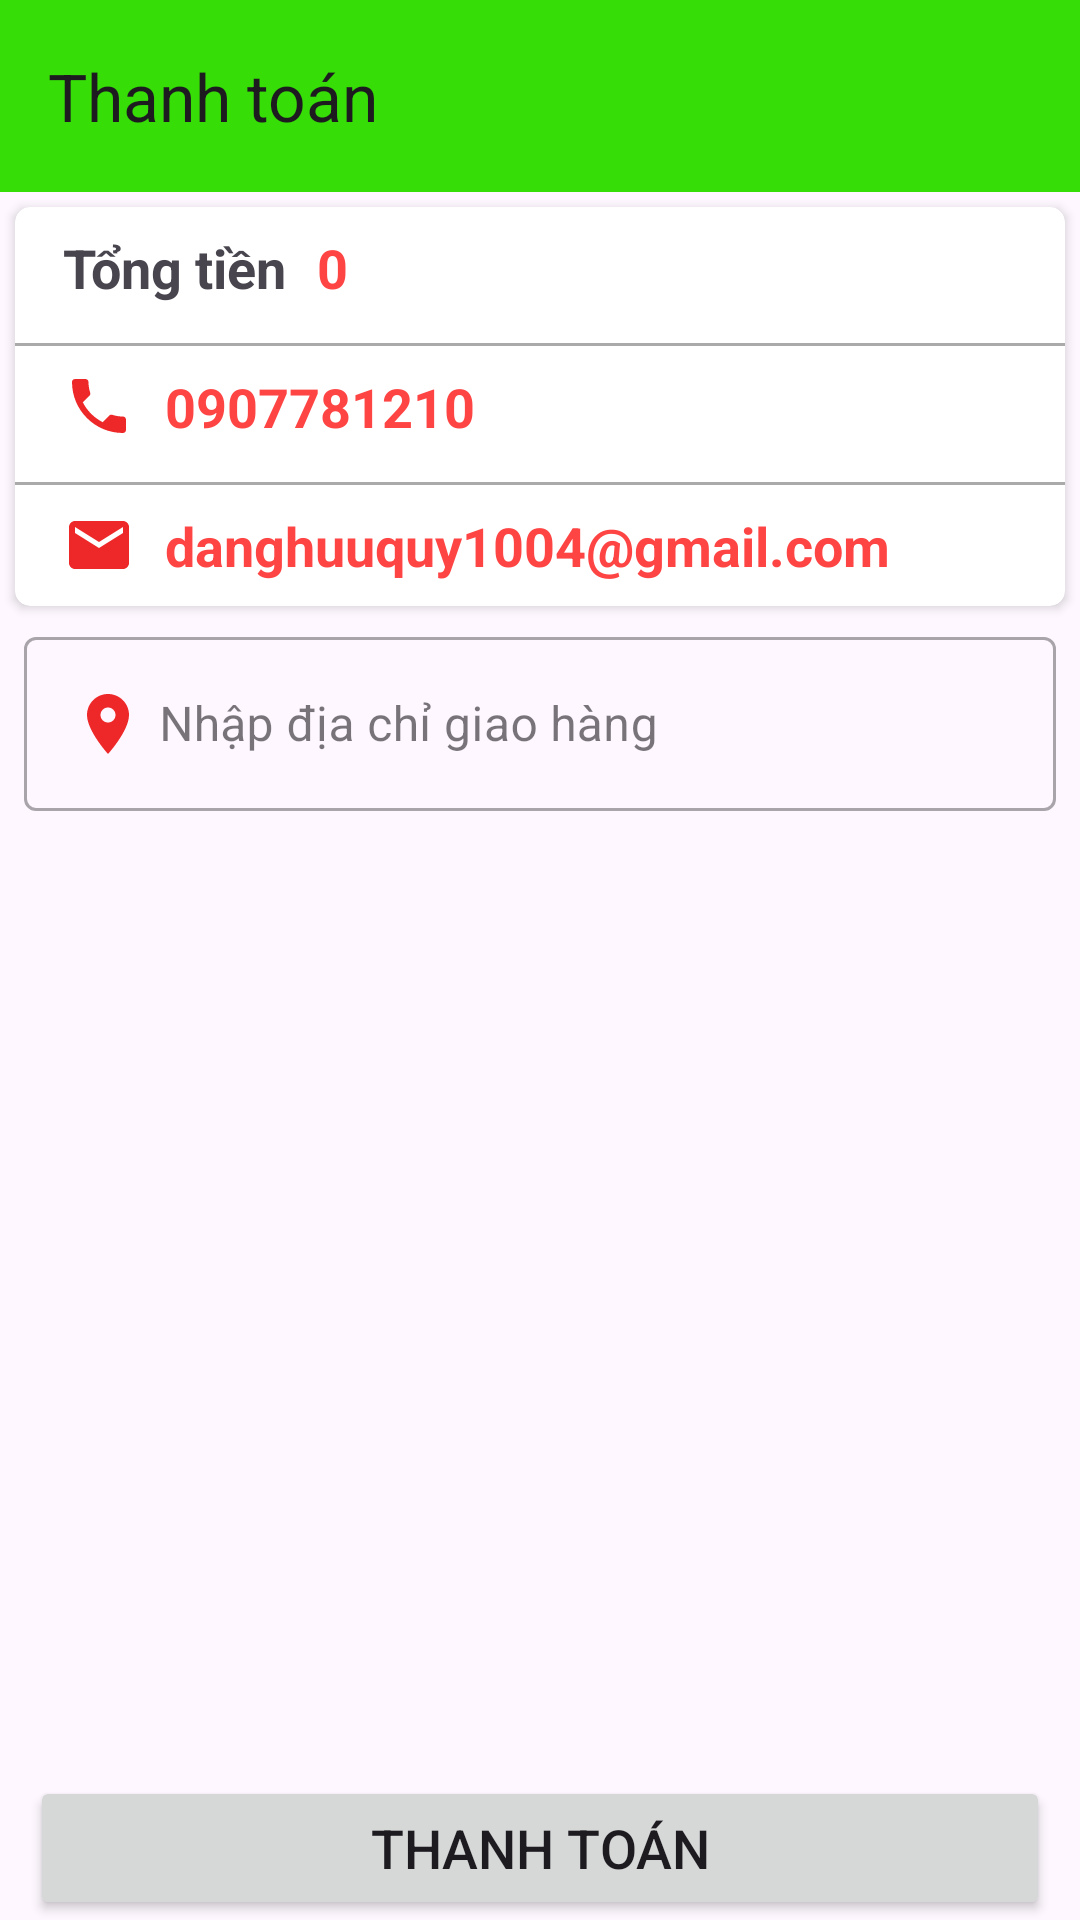

Screen size 1080×1920. Icon name, then its box in pixels as box=[x1, y1, x2, y2]:
email: box=[69, 521, 129, 569]
local phone: box=[72, 379, 126, 433]
